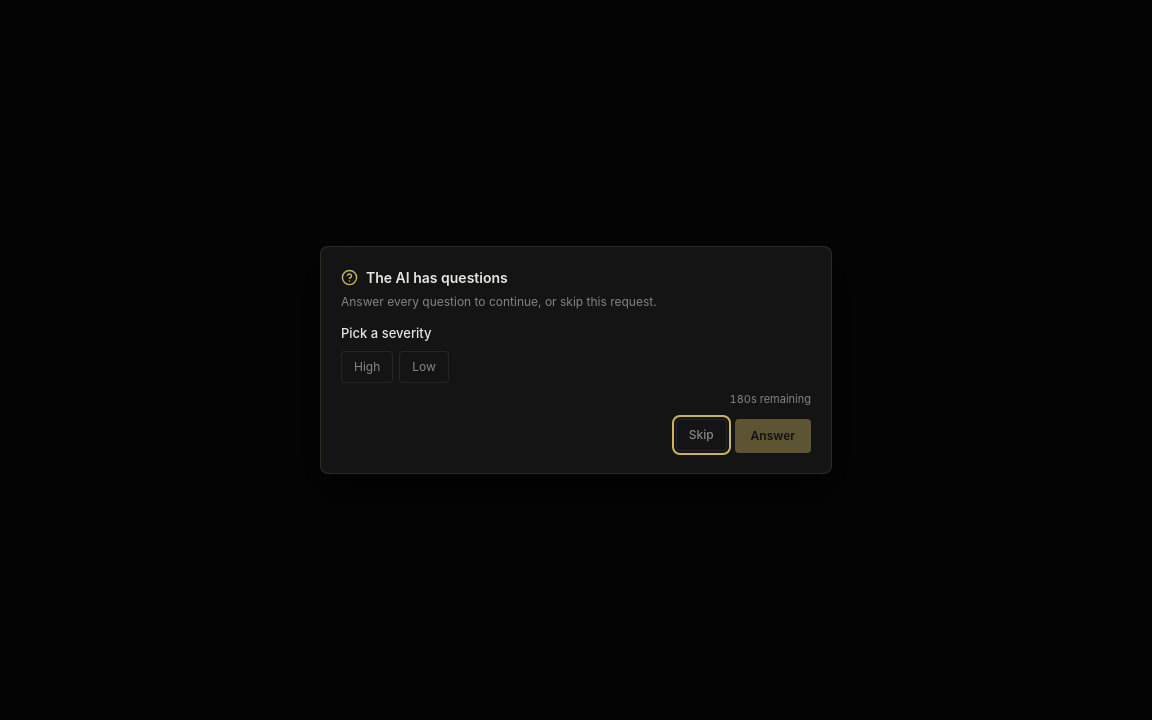
AskUserModal › single select: options toggle aria-pressed and a second click deselects
Step 1. Click the button "High" → (367, 367), box [341,351,393,383]
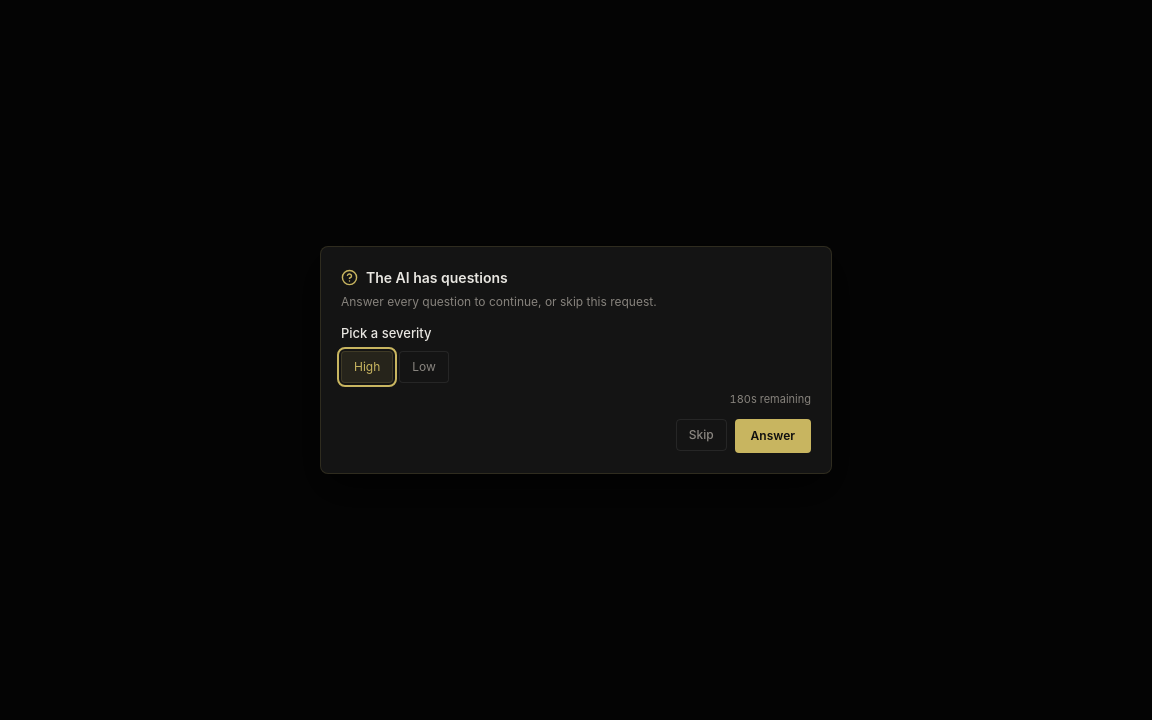
Result: the button "Answer" is enabled at [735,419,811,453]
Choosing another option replaces the first.
Step 2. Click the button "Low" → (424, 367), box [399,351,449,383]
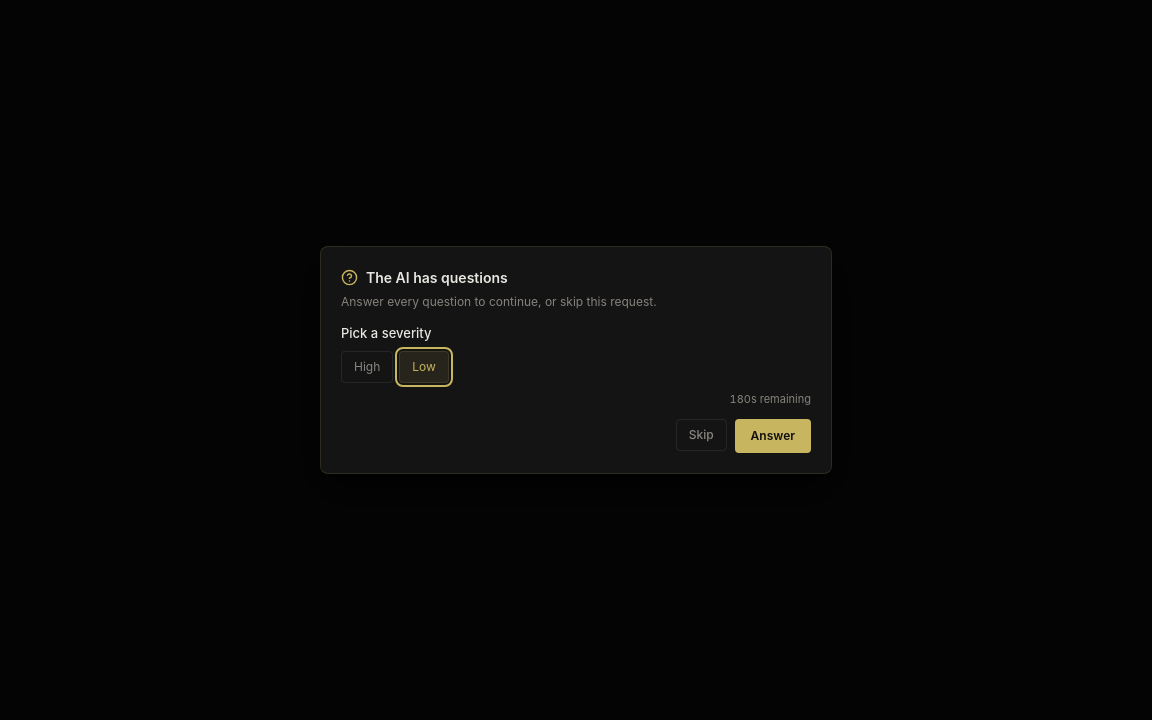
Result: the button "High" is not pressed at [341,351,393,383]
Result: the button "Low" is pressed
Step 3. Click the button "Low" → (424, 367), box [399,351,449,383]
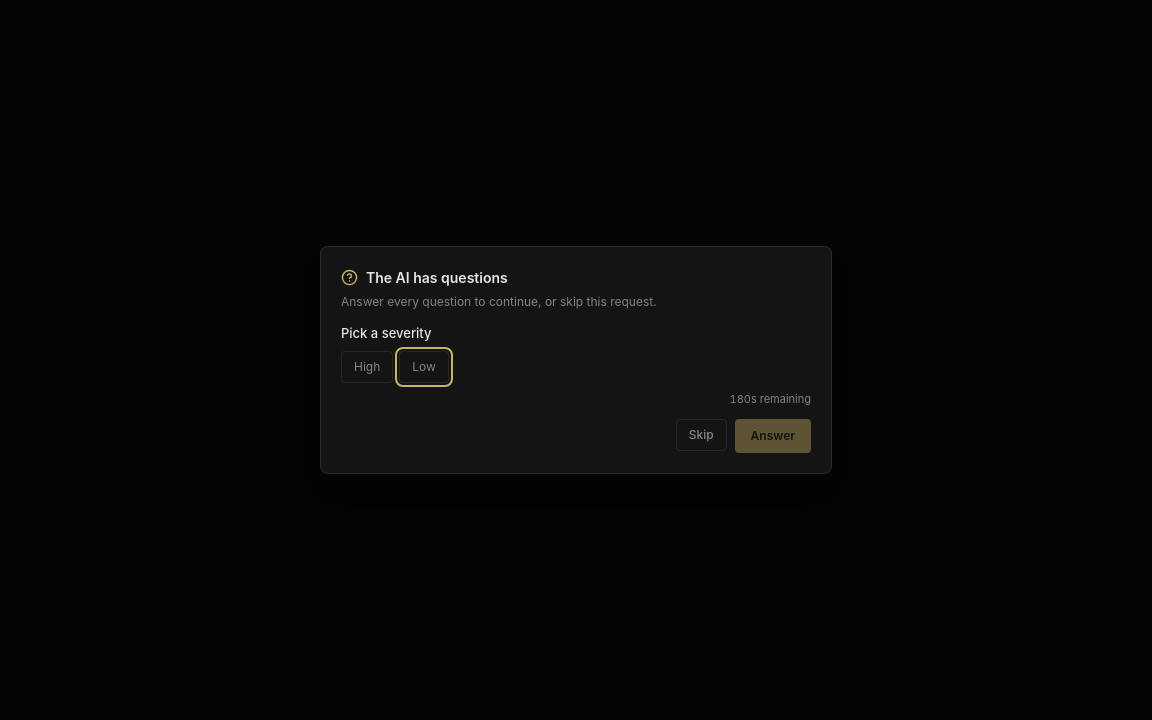
Result: the button "Answer" is disabled at [735,419,811,453]
